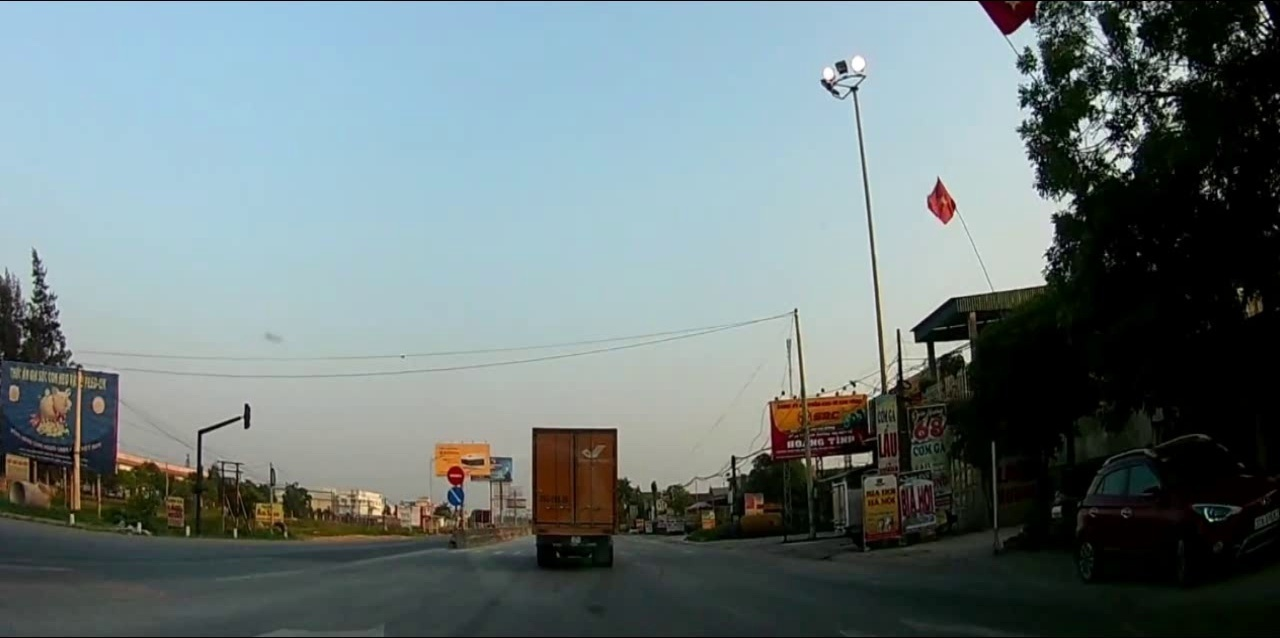Cam di nguoc chieu: (448, 464, 464, 487)
Huong di phai re phai: (446, 486, 465, 504)
